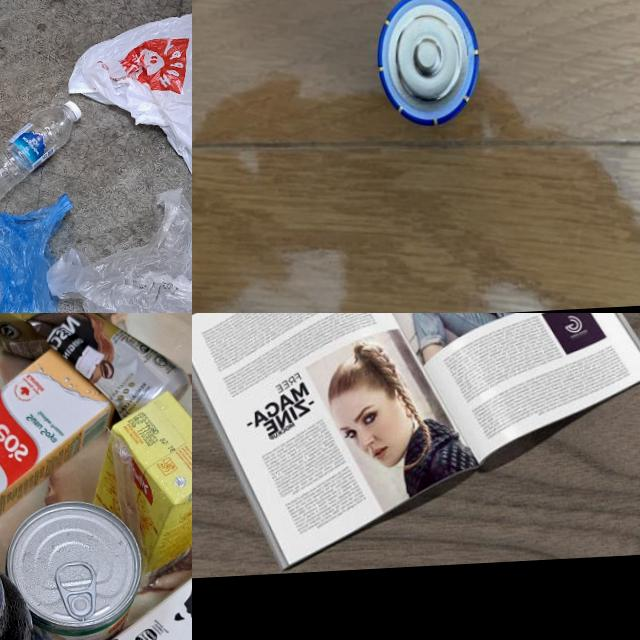aba de lata: (62, 562, 98, 619)
bateria: (375, 0, 484, 126)
caixinha: (88, 392, 192, 583), (56, 544, 192, 640)
garrafa plástica: (0, 107, 77, 210)
lata: (0, 313, 190, 427), (11, 500, 144, 640)
papel: (192, 313, 640, 578)
sacola plástica: (66, 9, 192, 207), (41, 186, 192, 313), (0, 192, 100, 313)
tampa plástica: (64, 100, 82, 122)
